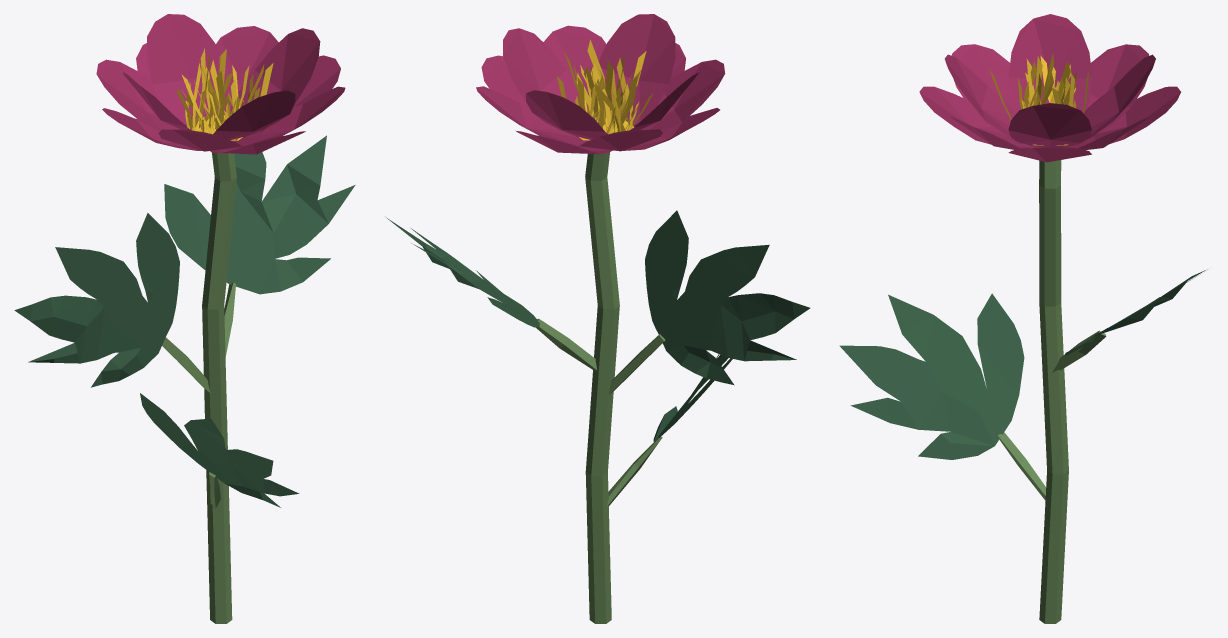
The model's file is PeonyRoot.fbx.
3 renders of one model, left to right at view 1: azimuth 30°, elevation 25°; view 2: azimuth 150°, elevation 25°; view 3: azimuth 270°, elevation 25°, orthographic.
Visible parts, largest first — view 1: PeonyRoot_LOD0; view 2: PeonyRoot_LOD0; view 3: PeonyRoot_LOD0.
Boxes of the visible parts, x1,y1,x2,y2 form: PeonyRoot_LOD0: (14, 14, 355, 623); PeonyRoot_LOD0: (386, 14, 810, 623); PeonyRoot_LOD0: (839, 14, 1205, 623).
Size of what is drawn, in the model's own units: 135 by 197 by 119.
